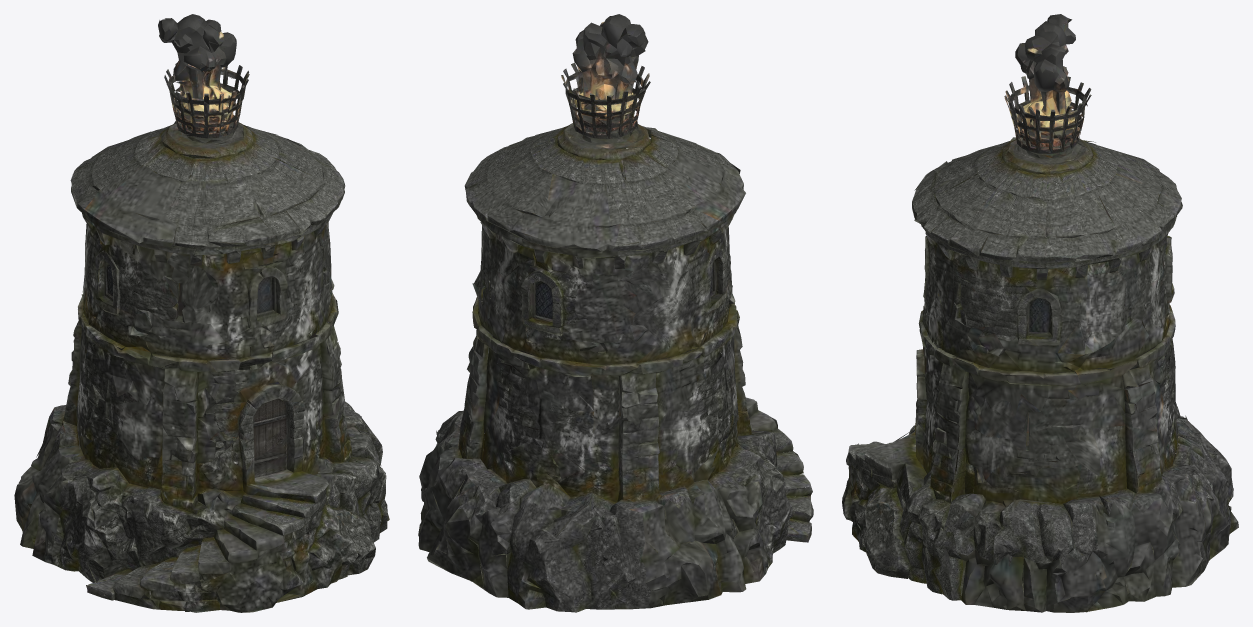
Rendered from beacon.glb.
3 renders of one model, left to right at view 1: azimuth 30°, elevation 25°; view 2: azimuth 150°, elevation 25°; view 3: azimuth 270°, elevation 25°, orthographic. The views are drawn at different scales.
Parts seen in each view (by area): view 1: Mesh_0; view 2: Mesh_0; view 3: Mesh_0.
Boxes of the visible parts, bbox=[...] form: Mesh_0: bbox=[14, 14, 389, 612]; Mesh_0: bbox=[418, 14, 813, 612]; Mesh_0: bbox=[842, 14, 1238, 612].
Bounding box in the file's own units: 4.32 × 6.5 × 4.6.
1 material, 1 textured.
